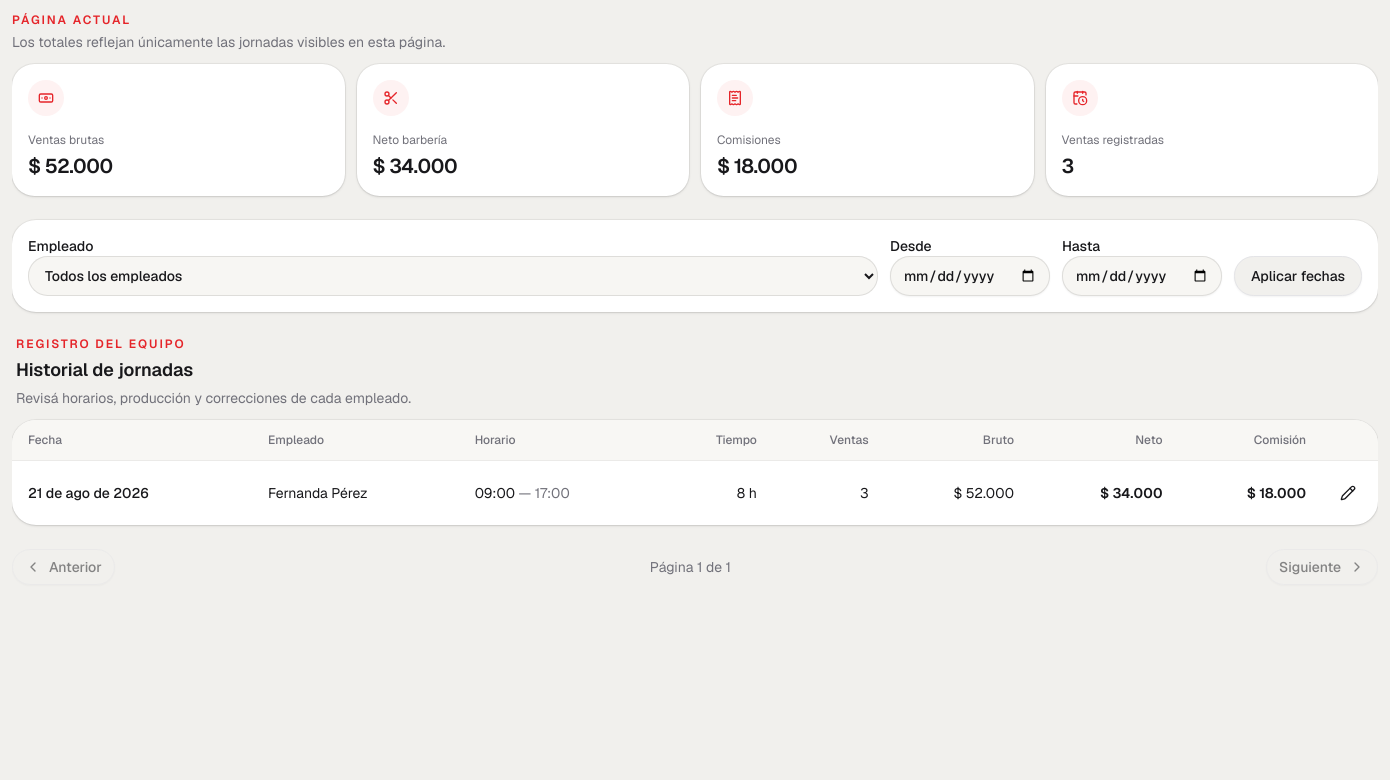
keeps the newest filter response when requests finish out of order
Select "Fernanda Pérez" in the dropdown named "Filtrar por empleado" at (453, 276), box [28,256,878,296]
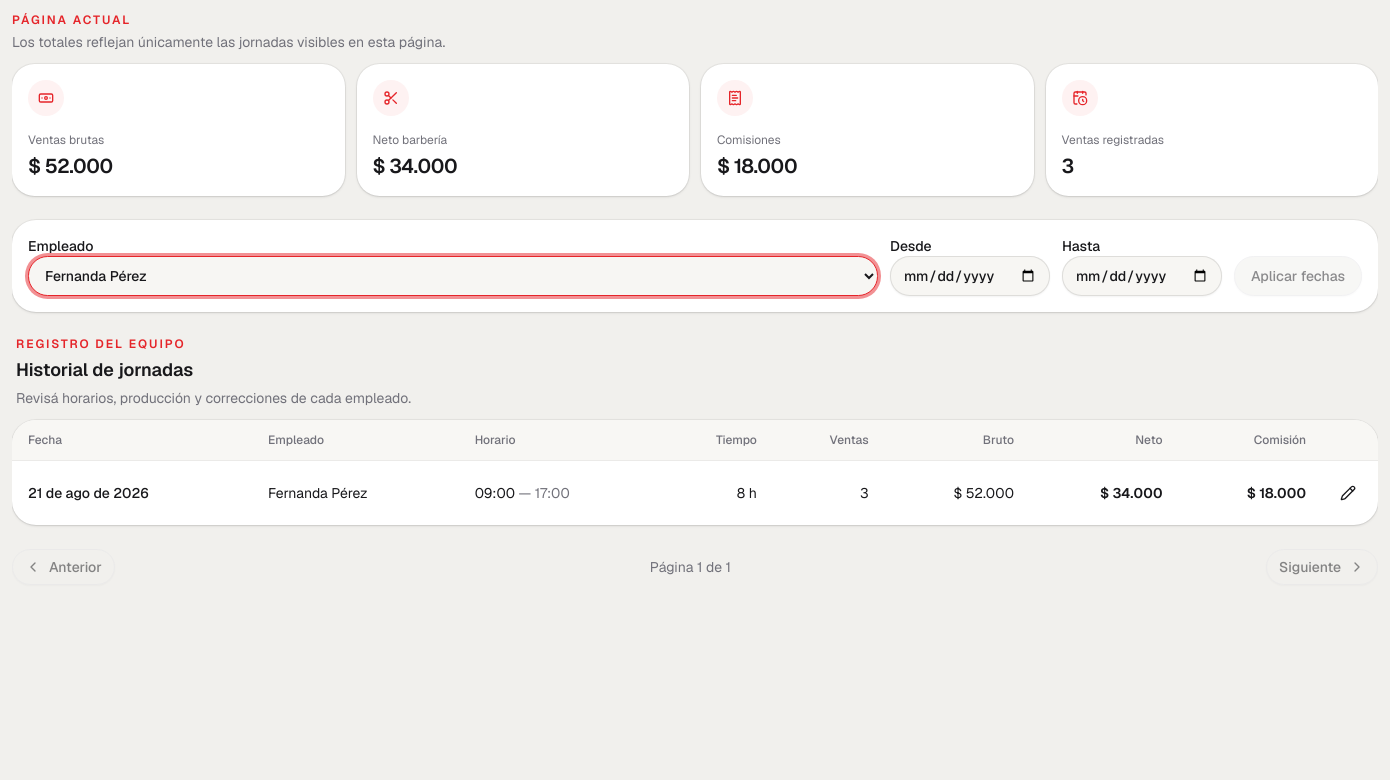
Select "Martín Sosa" in the dropdown named "Filtrar por empleado" at (453, 276), box [28,256,878,296]
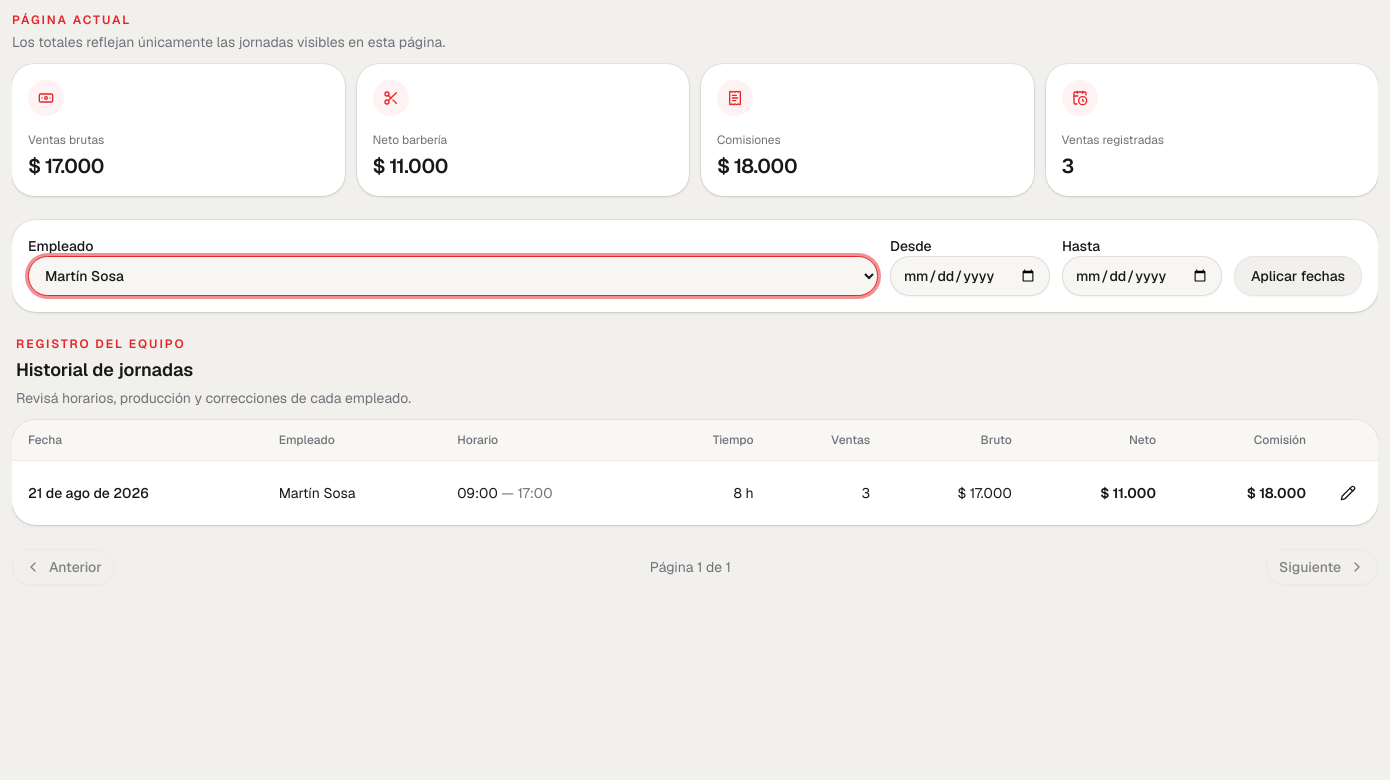
Result: the text "Martín Sosa" is shown at [263,460,441,525]
Result: the text "Fernanda Pérez" is gone
